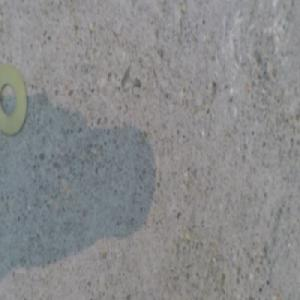Washer: (1, 64, 27, 137)
